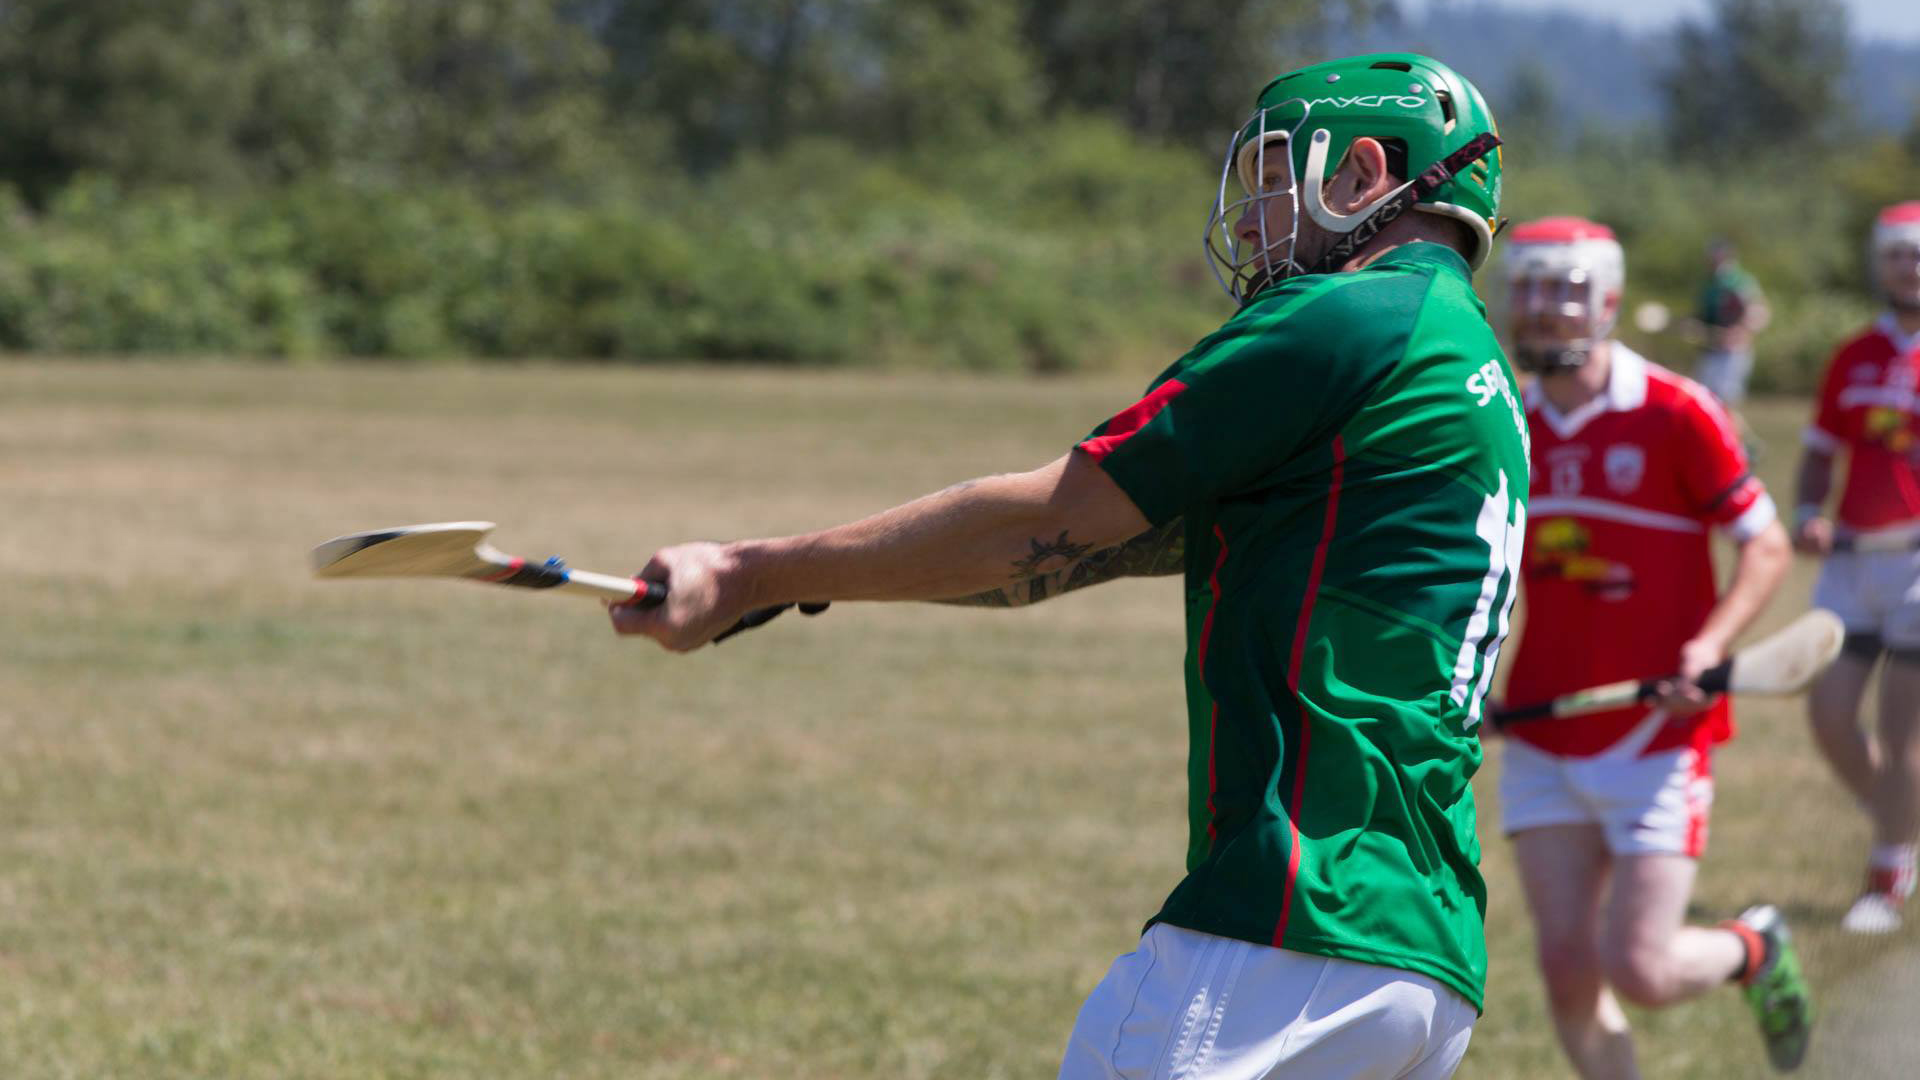hurley: (305, 516, 789, 666)
